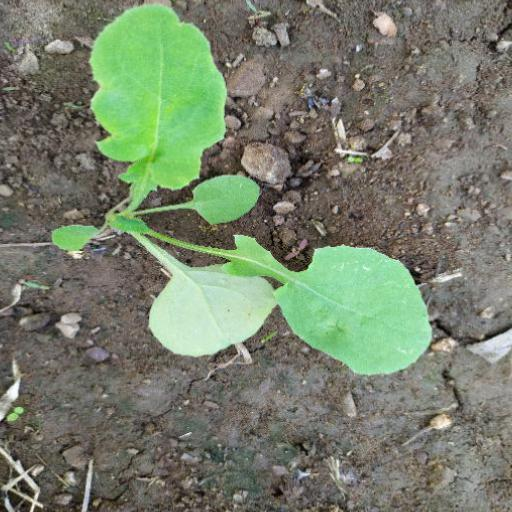weed: (34, 1, 432, 376)
